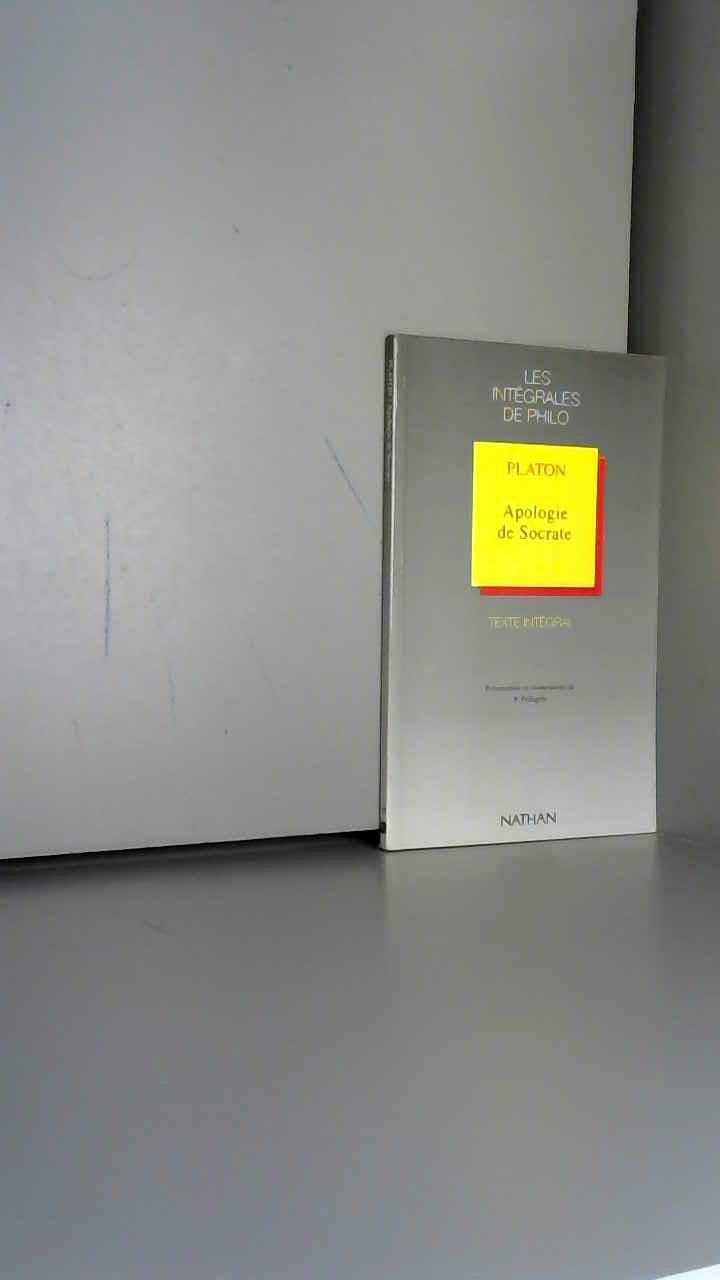book: (350, 300, 720, 877)
